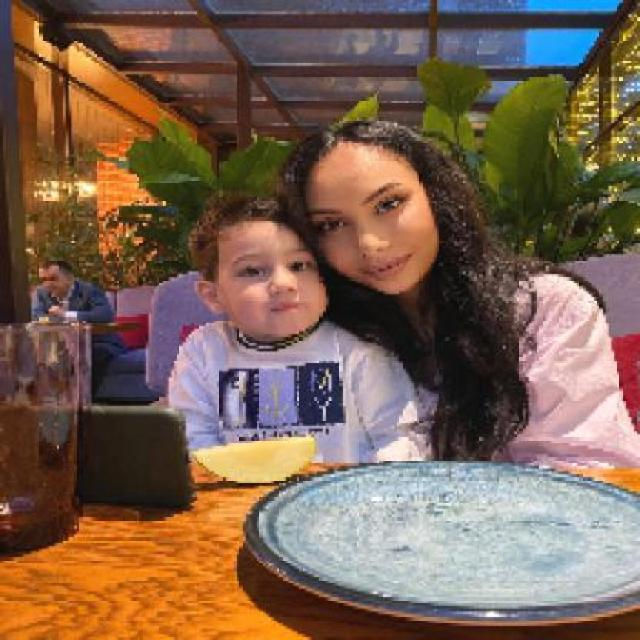child: (167, 189, 439, 460)
